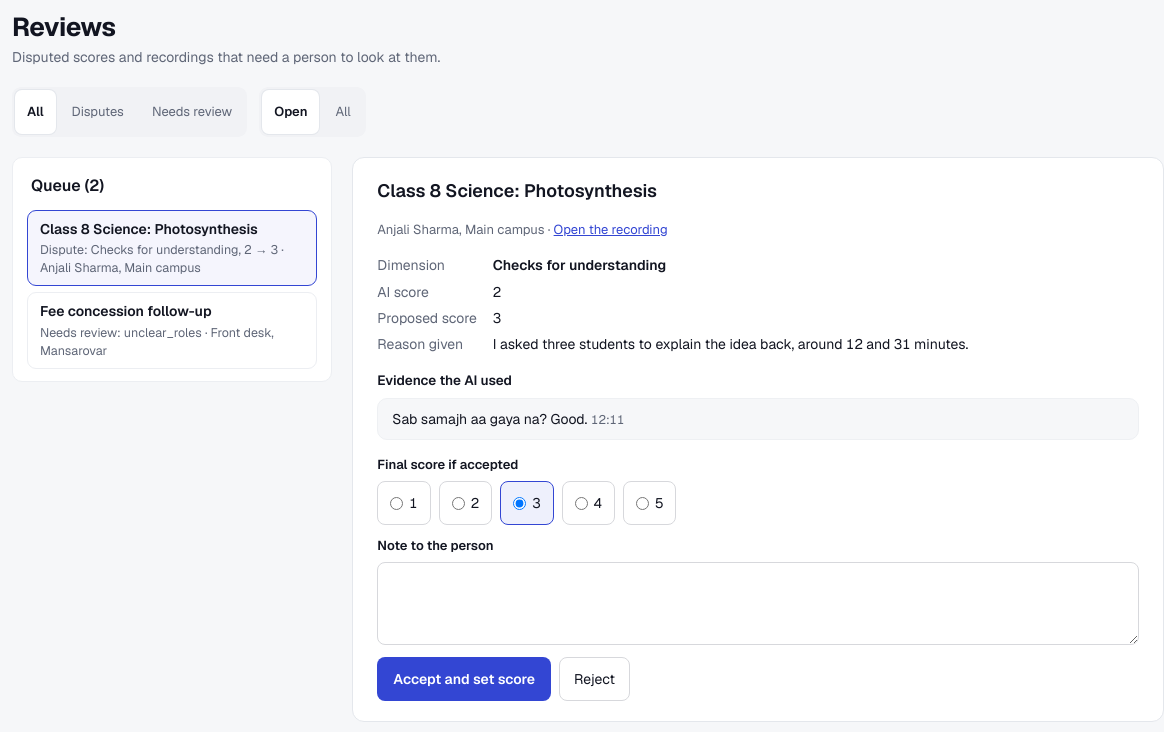
Test: ReviewsPage › links a needs-review item to its recording
Click the button that starts with "Fee concession follow-up": click(172, 330) [27,292,317,369]
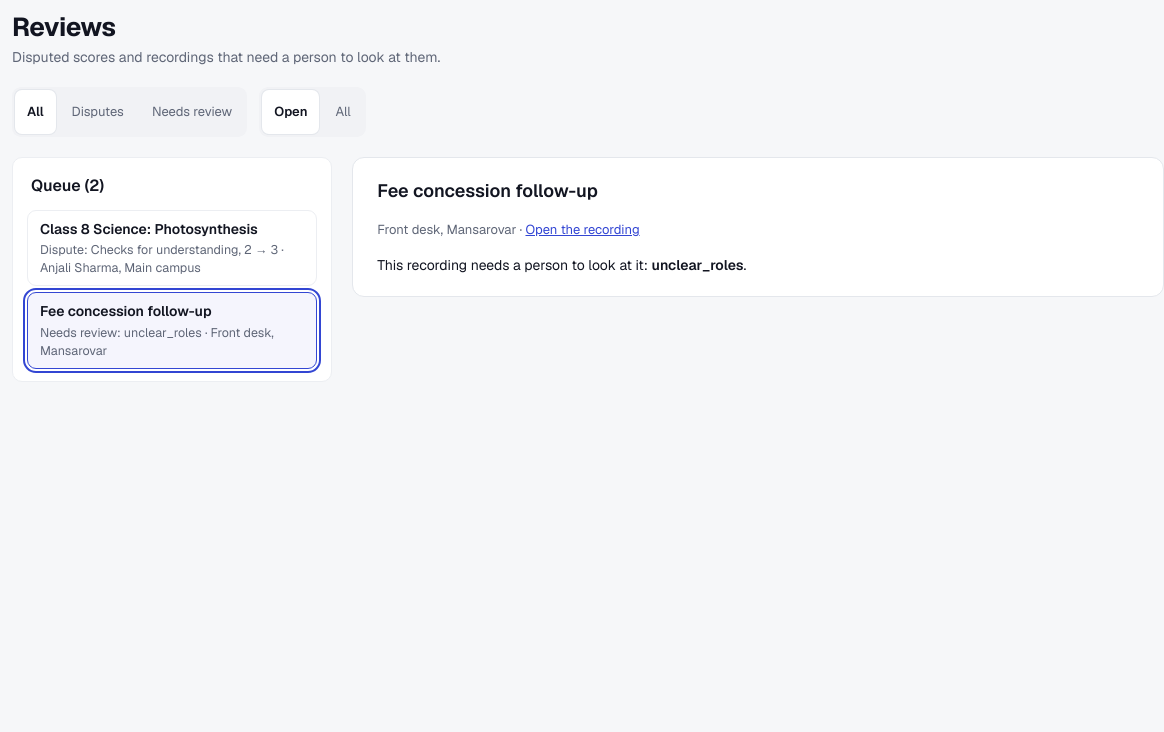
Expected: the button "Accept and set score" is gone
